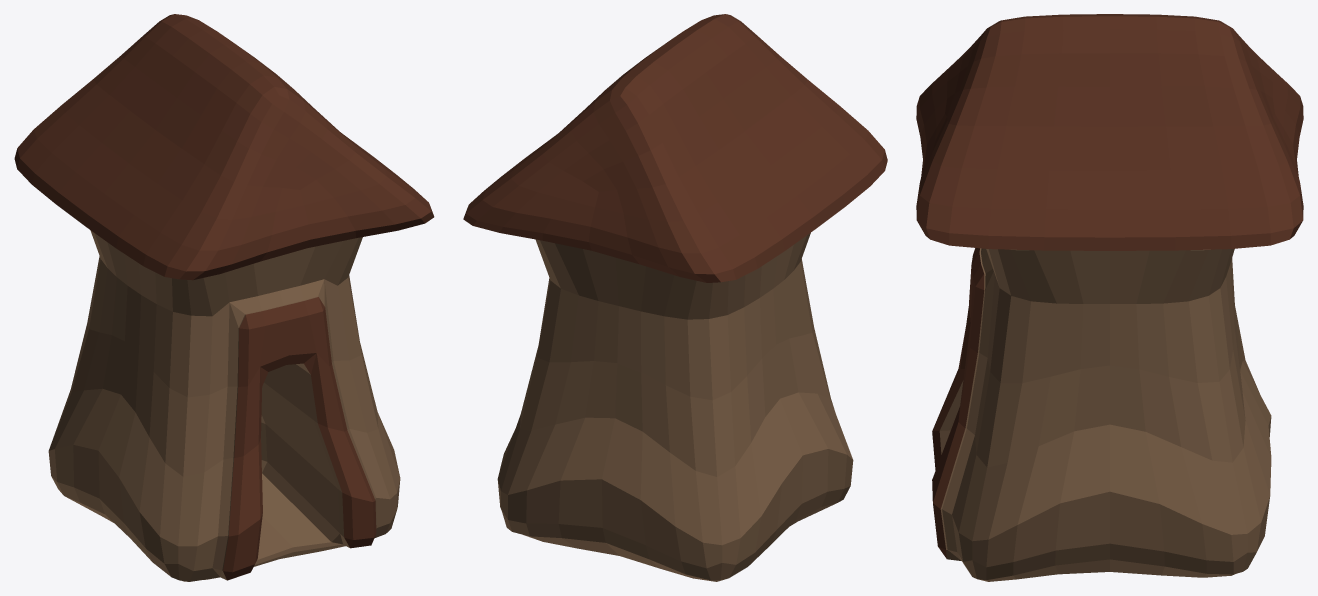
File: tower1.fbx
3 views of the same model, side by side, from view 1: azimuth 30°, elevation 25°; view 2: azimuth 150°, elevation 25°; view 3: azimuth 270°, elevation 25° (orthographic). The views are drawn at different scales.
Visible parts, largest first — view 1: Cube, Cube.001; view 2: Cube, Cube.001; view 3: Cube, Cube.001.
Boxes of the visible parts, <box> form: Cube: <box>48,230,400,581</box>; Cube.001: <box>14,14,434,280</box>; Cube: <box>497,233,853,581</box>; Cube.001: <box>463,14,887,282</box>; Cube: <box>932,248,1271,581</box>; Cube.001: <box>916,14,1303,250</box>.
Size of the model in its own units: 210 by 344 by 233.
